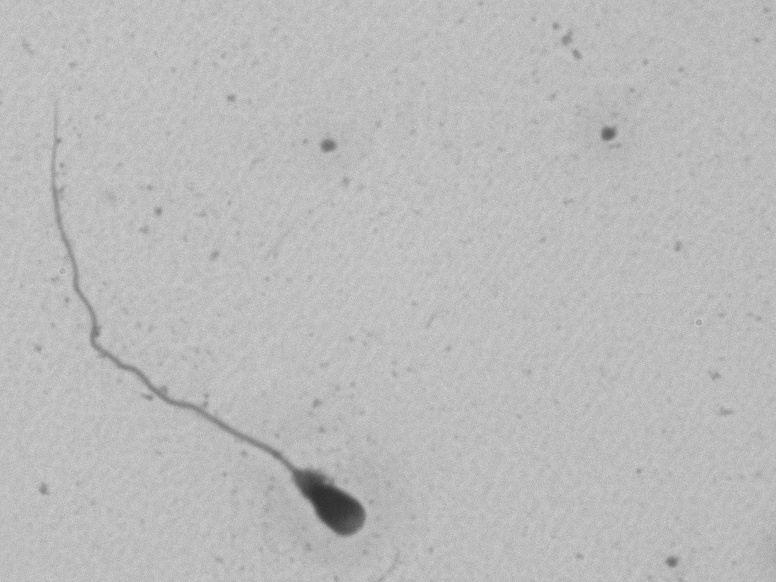Abnormal: (23, 104, 407, 563)
